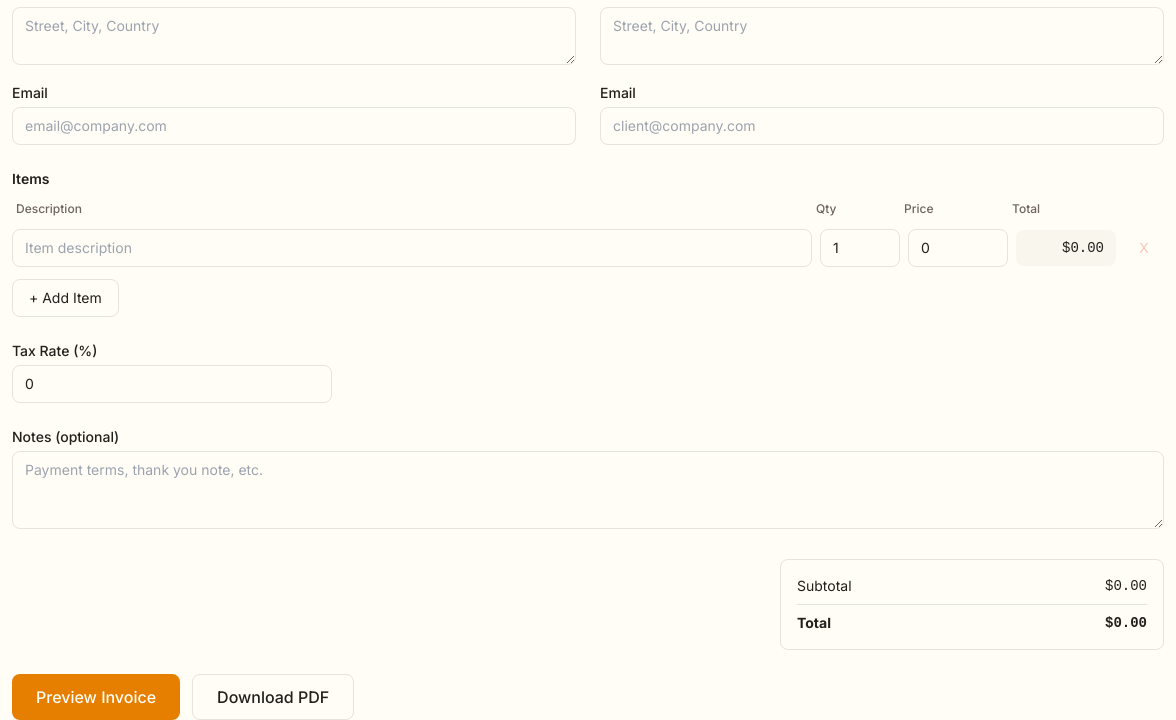
Test case: InvoiceGenerator - Deep Tests › shows notes in preview when provided
The image size is (1176, 720).
(page scrolled)
Type "Payment due within 30 days" into the text box with placeholder "Payment terms, thank you note, etc.". click: (588, 490)
box: [12, 451, 1164, 529]
(page scrolled)
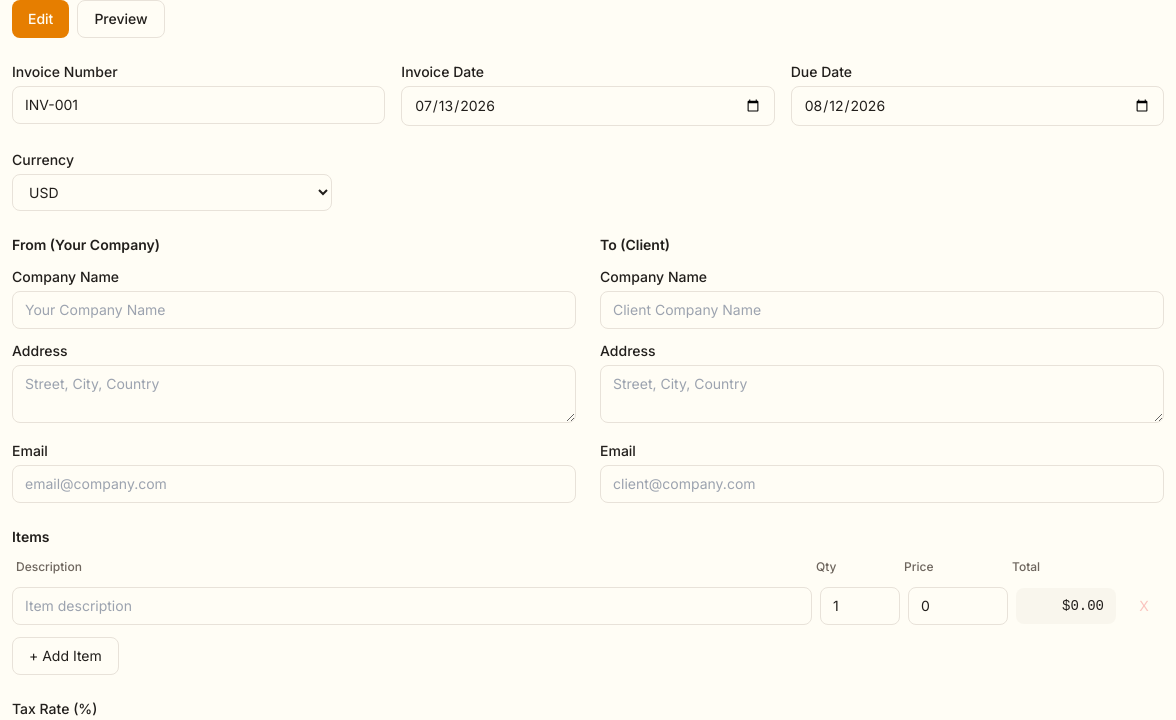
Click the button "Preview". click: (121, 19)
box: [77, 0, 165, 38]
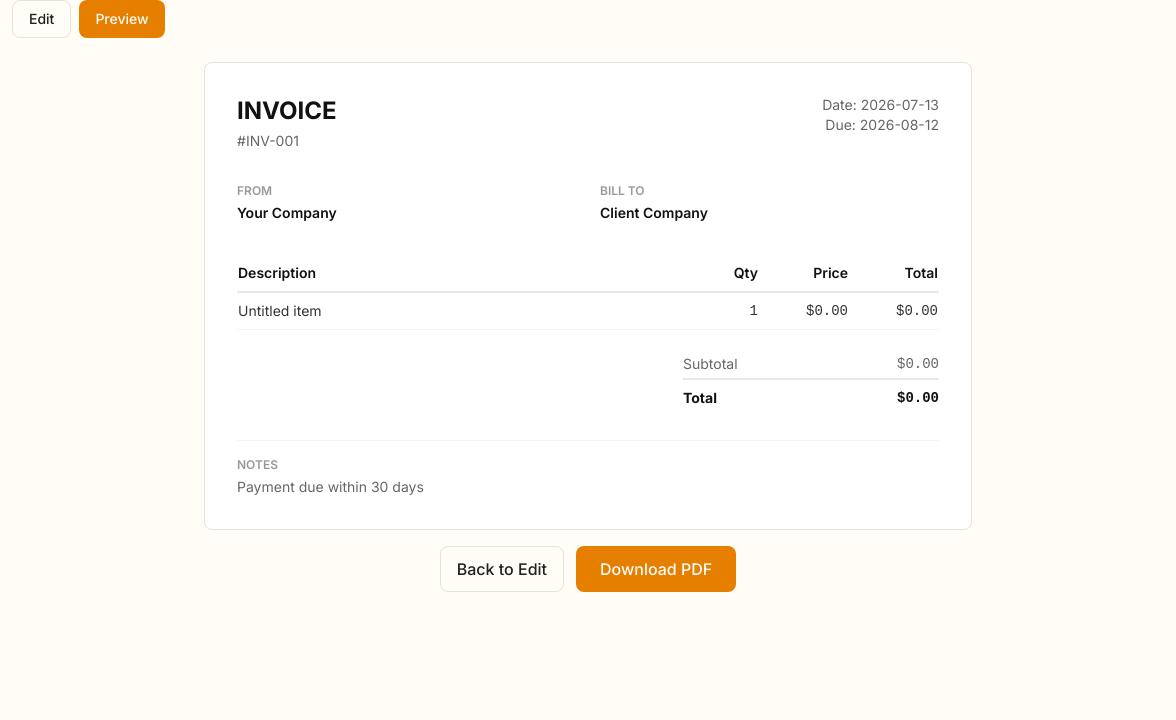
Expected: the text "Notes" is shown, [237, 457, 278, 472]
Expected: the text "Payment due within 30 days" is shown, [237, 478, 424, 495]
